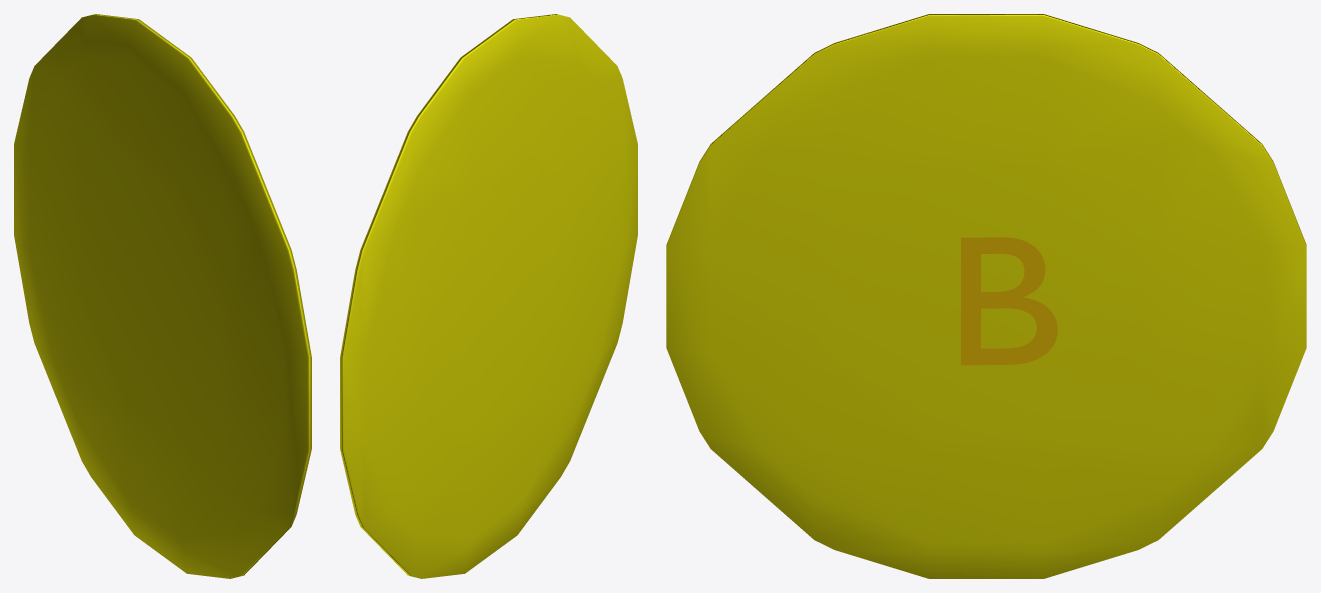
The model's file is bitcoin.fbx.
3 views of the same model, side by side, from view 1: azimuth 30°, elevation 25°; view 2: azimuth 150°, elevation 25°; view 3: azimuth 270°, elevation 25° (orthographic). The views are drawn at different scales.
Visible parts, largest first — view 1: Mball; view 2: Mball; view 3: Mball, B.
Part boxes in pixels (box(x1,y1,x2,y2)): Mball: box(14, 14, 311, 578); Mball: box(340, 14, 637, 578); Mball: box(666, 14, 1306, 578); B: box(961, 237, 1057, 365).
Size of the model in its own units: 25.21 by 300 by 309.
